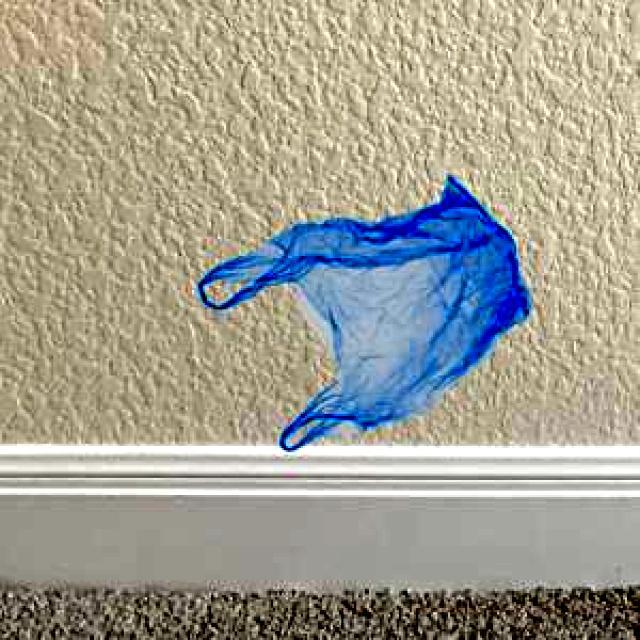Plastic_Bag: (197, 174, 528, 447)
